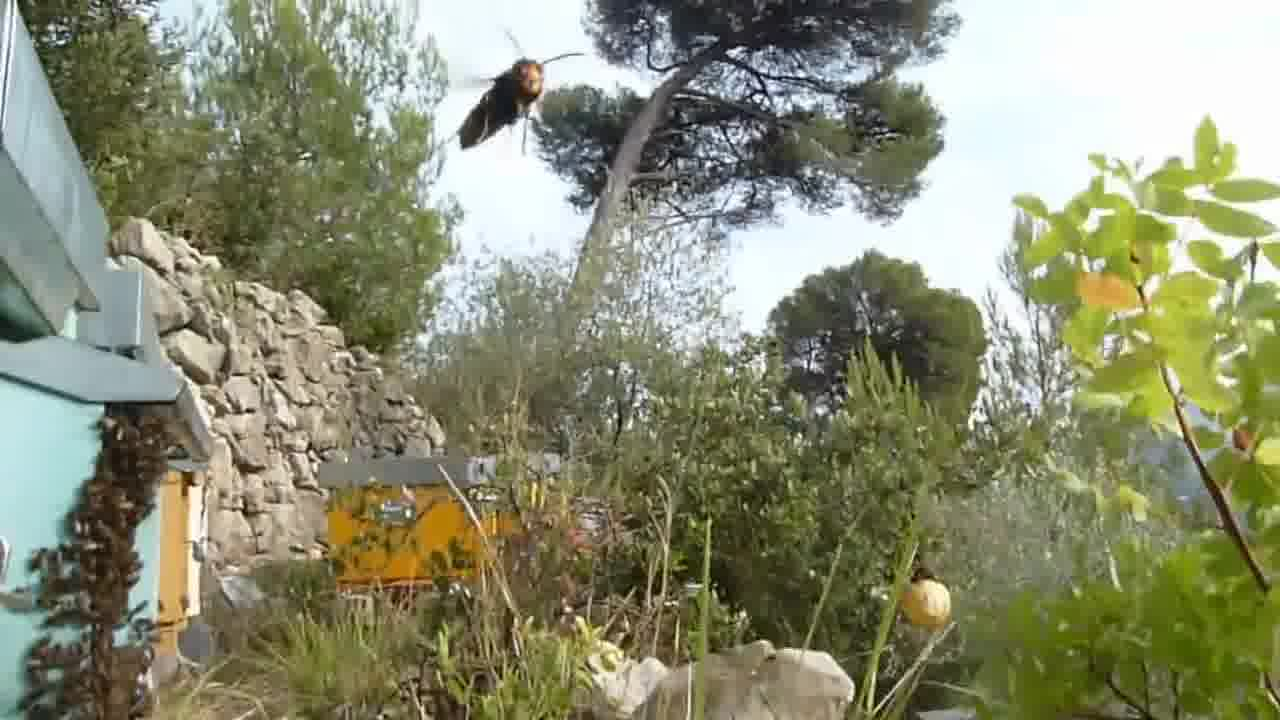bee: (37, 493, 150, 624), (23, 632, 162, 720), (93, 404, 170, 508)
hornet: (443, 49, 555, 158)
